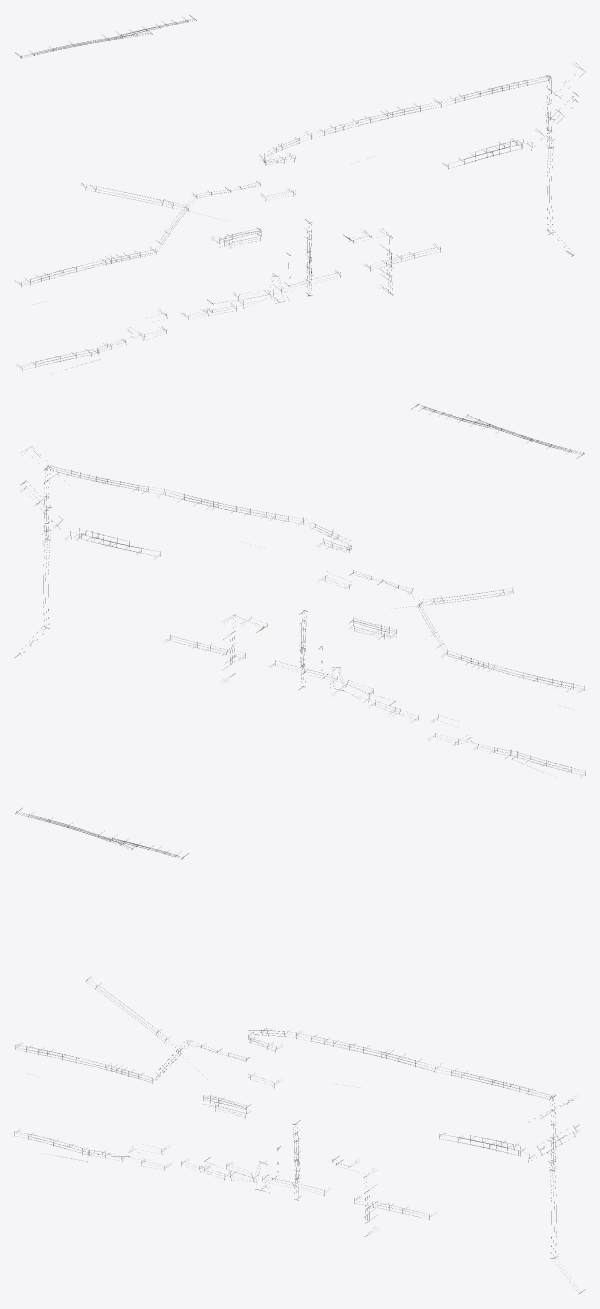
Rendered from white_river_lines_and_supports.glb.
3 renders of one model, top to bottom at view 1: azimuth 30°, elevation 25°; view 2: azimuth 150°, elevation 25°; view 3: azimuth 330°, elevation 25°, orthographic. The views are drawn at different scales.
Parts seen in each view (by area): view 1: wires, arms; view 2: wires, arms, poles, steel; view 3: wires, arms.
Part boxes in pixels (box(x1,y1,x2,y2)): wires: box(24, 19, 583, 369); arms: box(20, 18, 581, 370); wires: box(22, 404, 582, 772); arms: box(19, 404, 585, 775); poles: box(14, 404, 584, 772); steel: box(20, 445, 585, 777); wires: box(16, 812, 578, 1293); arms: box(14, 811, 576, 1258).
Size of the model in its own units: 800 by 462 by 62.04.
